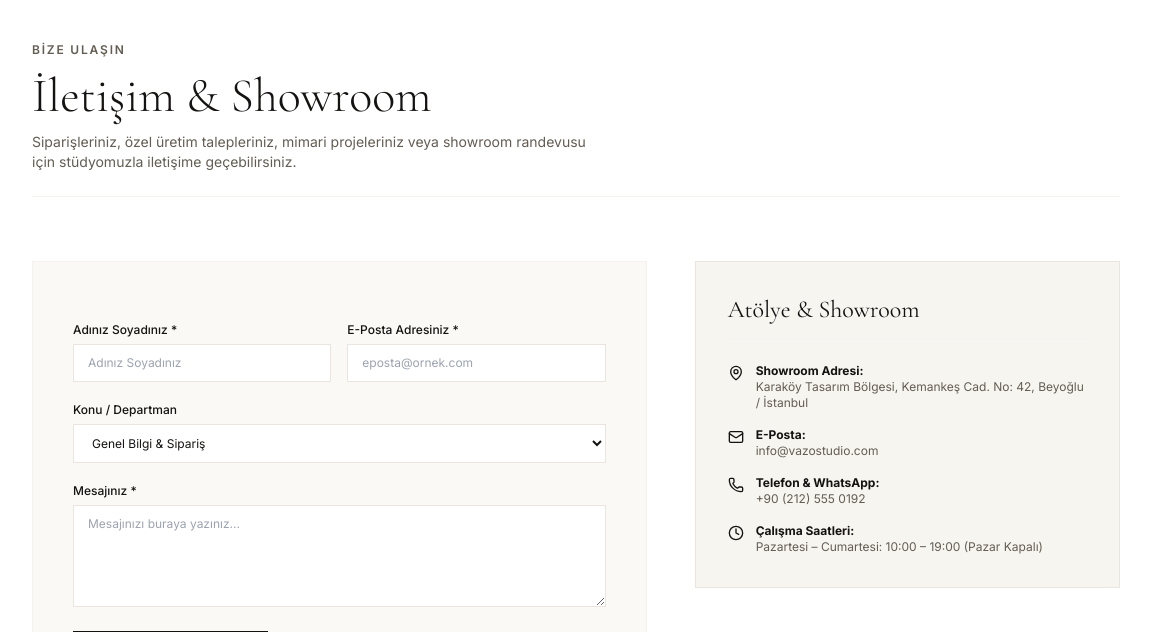
Scenario: Content & Policy Pages Integration Tests › handles ContactPage submission failure gracefully
The width and height of the screenshot is (1152, 632).
In the field with placeholder "Adınız Soyadınız": (202, 363) [73,344,331,382], type "Ali Veli"
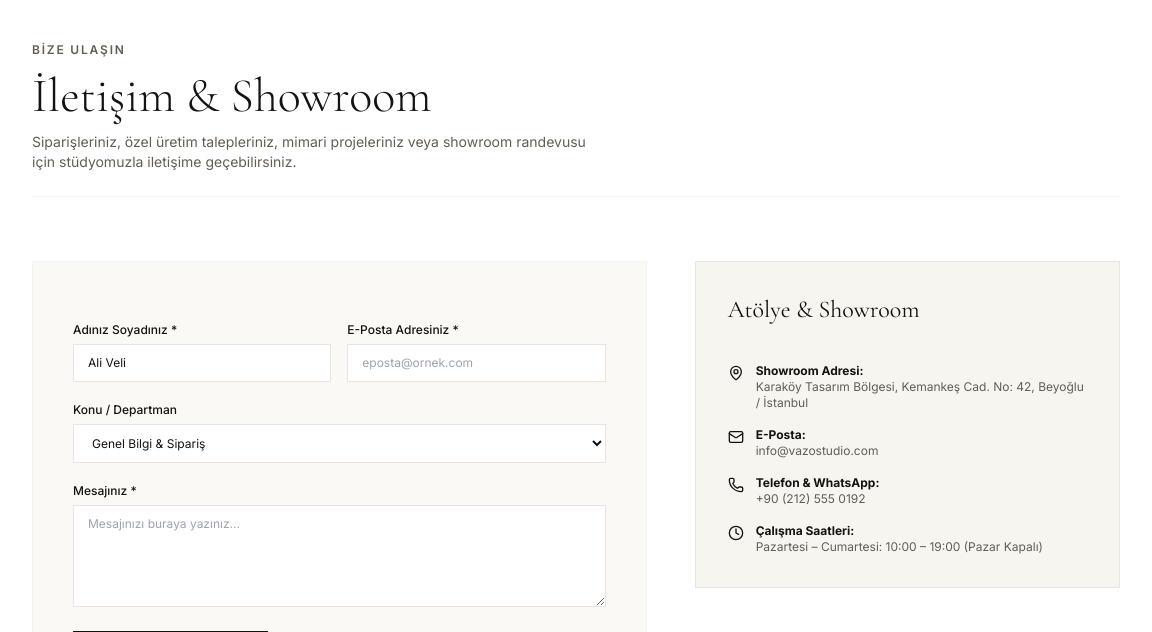
In the field with placeholder "eposta@ornek.com": (476, 363) [347,344,606,382], type "ali@test.com"
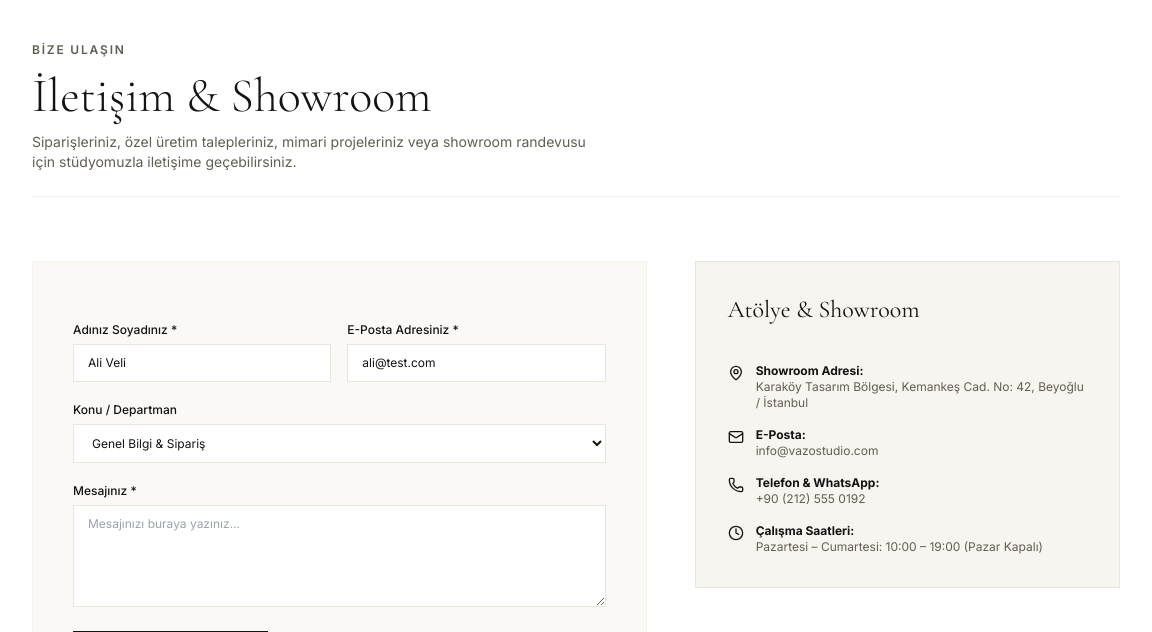
In the text box with placeholder "Mesajınızı buraya yazınız...": (339, 556) [73,505,606,607], type "Test mesajı"
(page scrolled)
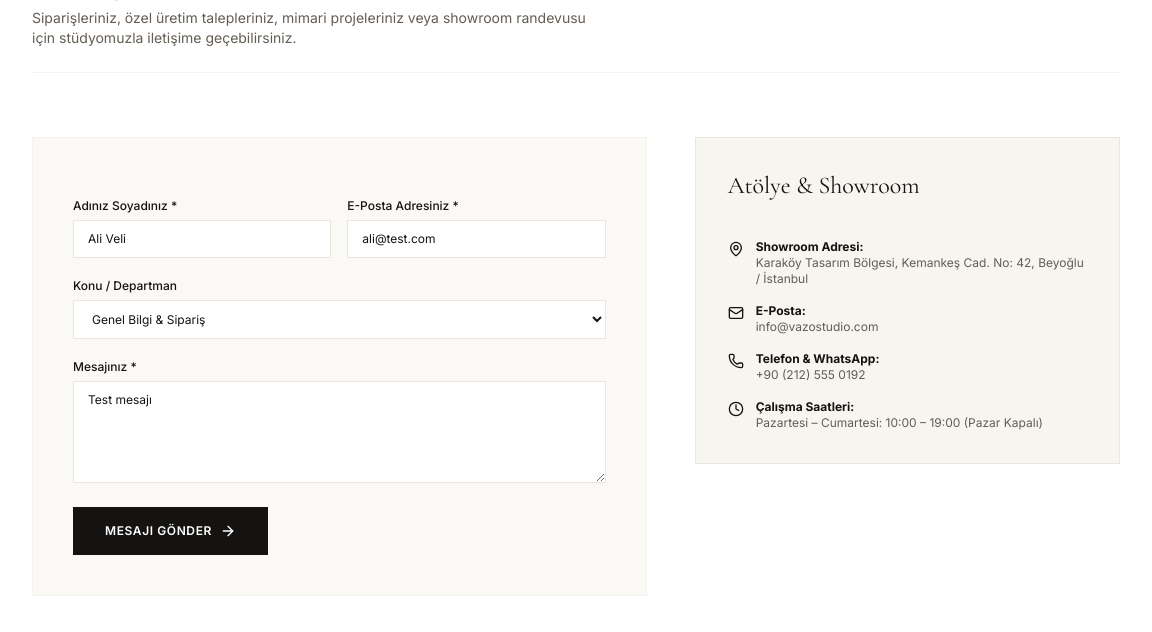
Click the button "Mesajı Gönder": (170, 531) [73,507,268,555]
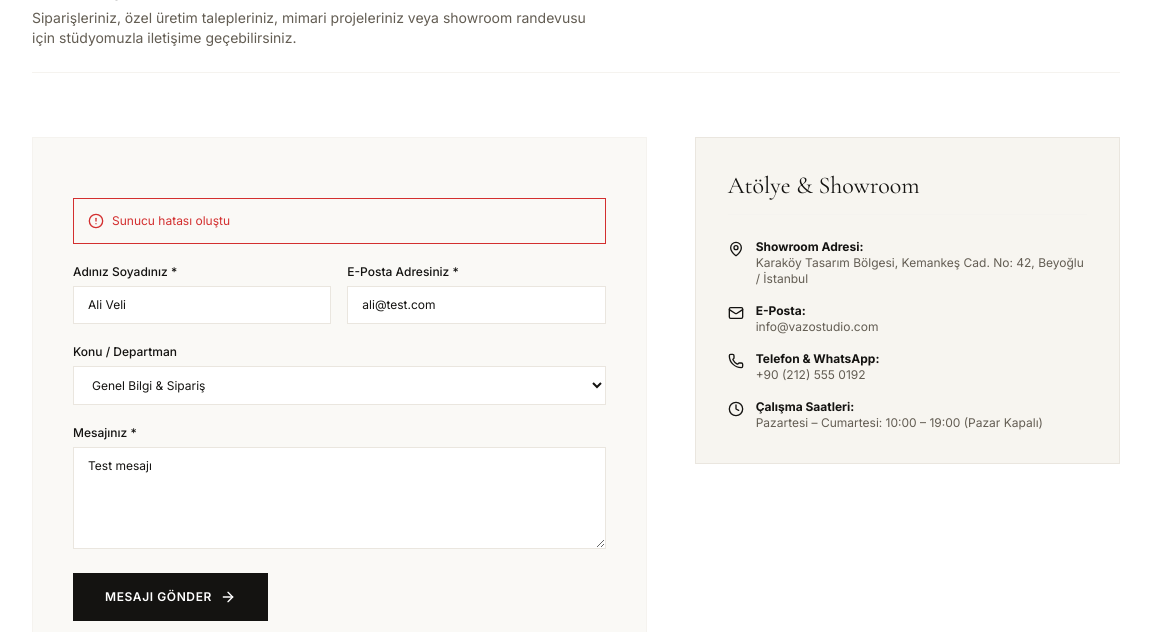
Now the text "Sunucu hatası oluştu" is shown, box [112,213,230,229]
